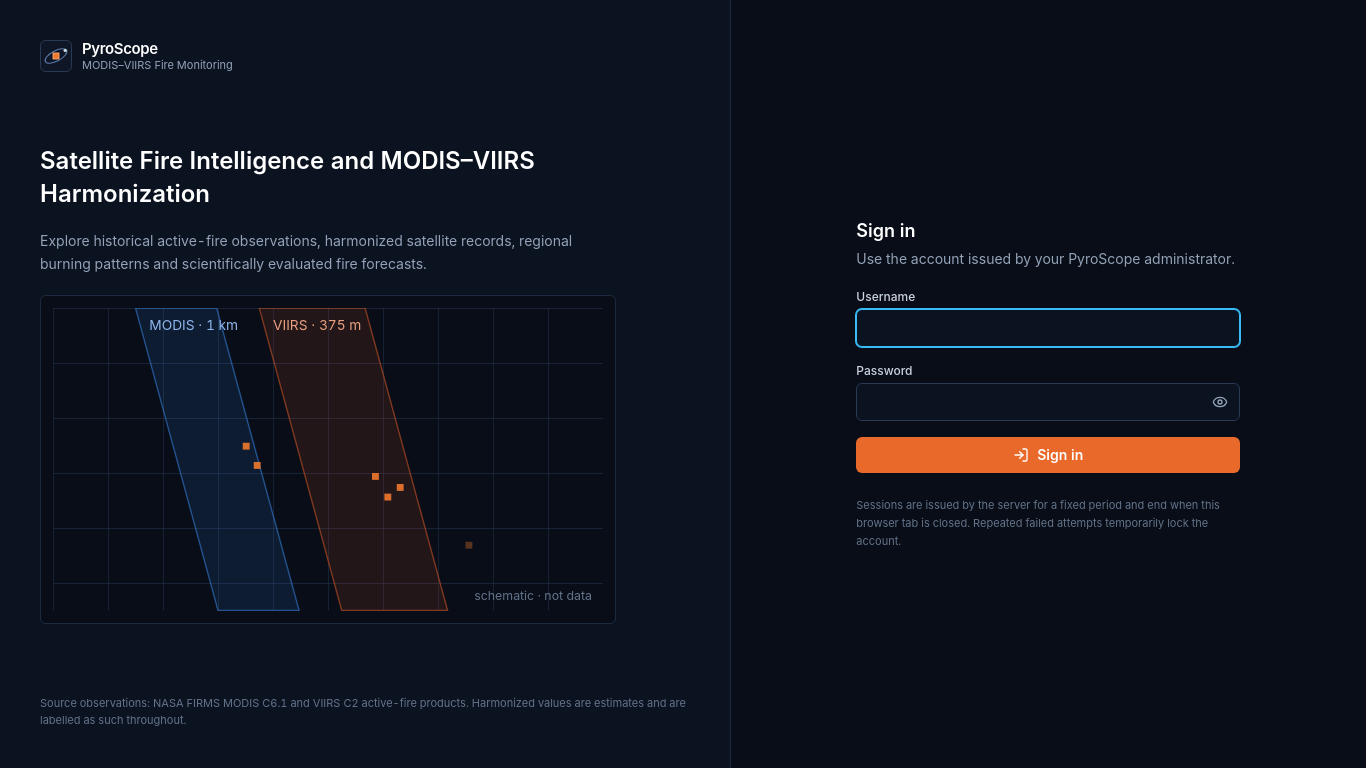
Scenario: production mode › reports network failure and blocks double submission while pending
In the field labelled "Username": {"x": 1048, "y": 328} [856,309,1240,347], type "admin"
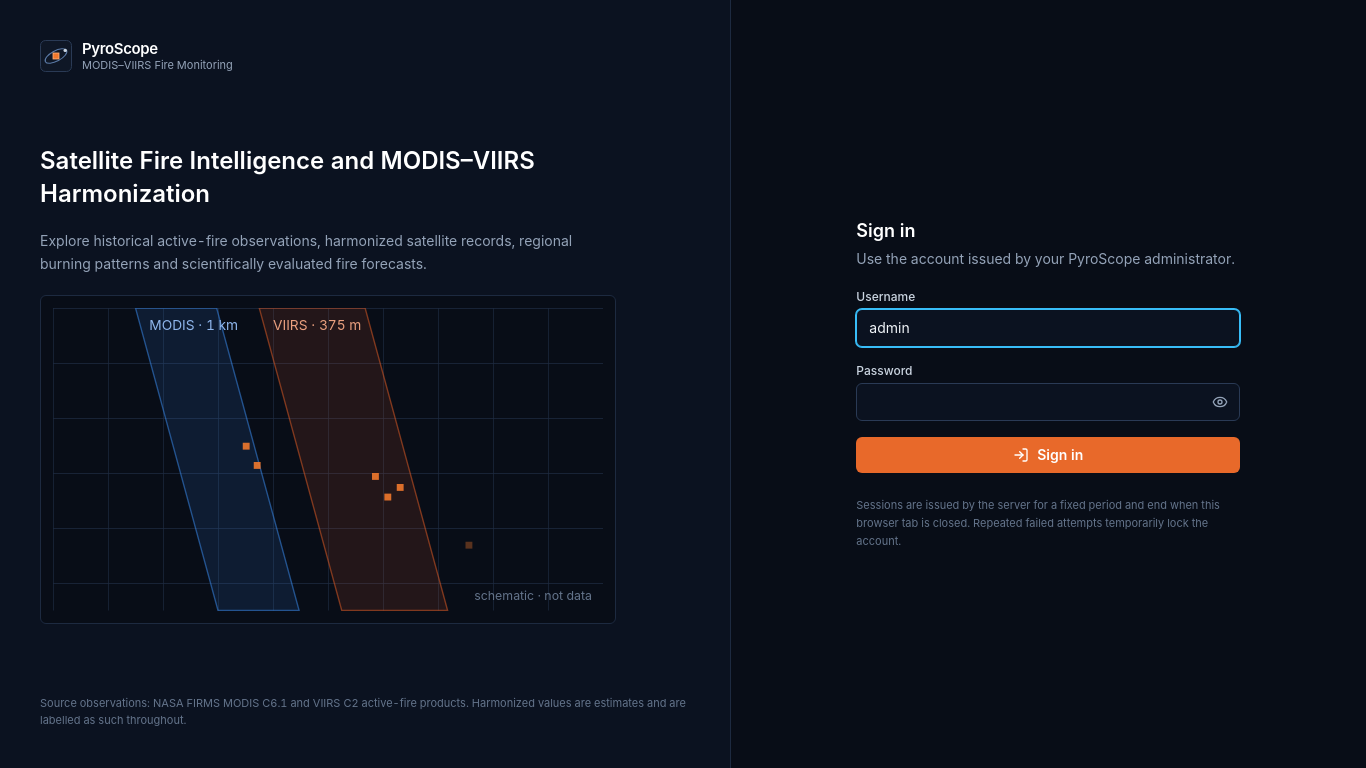
In the password field labelled "Password": {"x": 1048, "y": 402} [856,383,1240,421], type "x"
Then press Enter
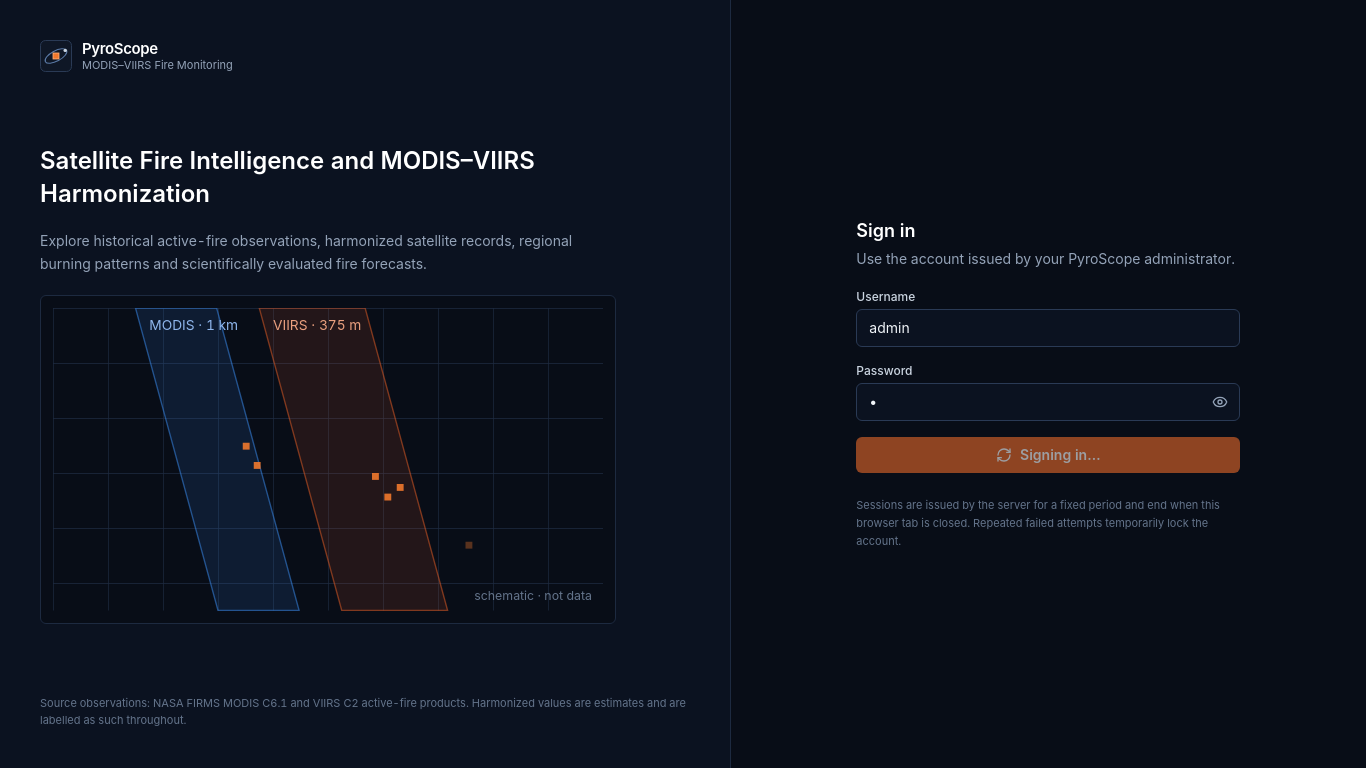
Expected: the button "Signing in…" is disabled
Click the button "Signing in…": {"x": 1048, "y": 455} [856,437,1240,473]
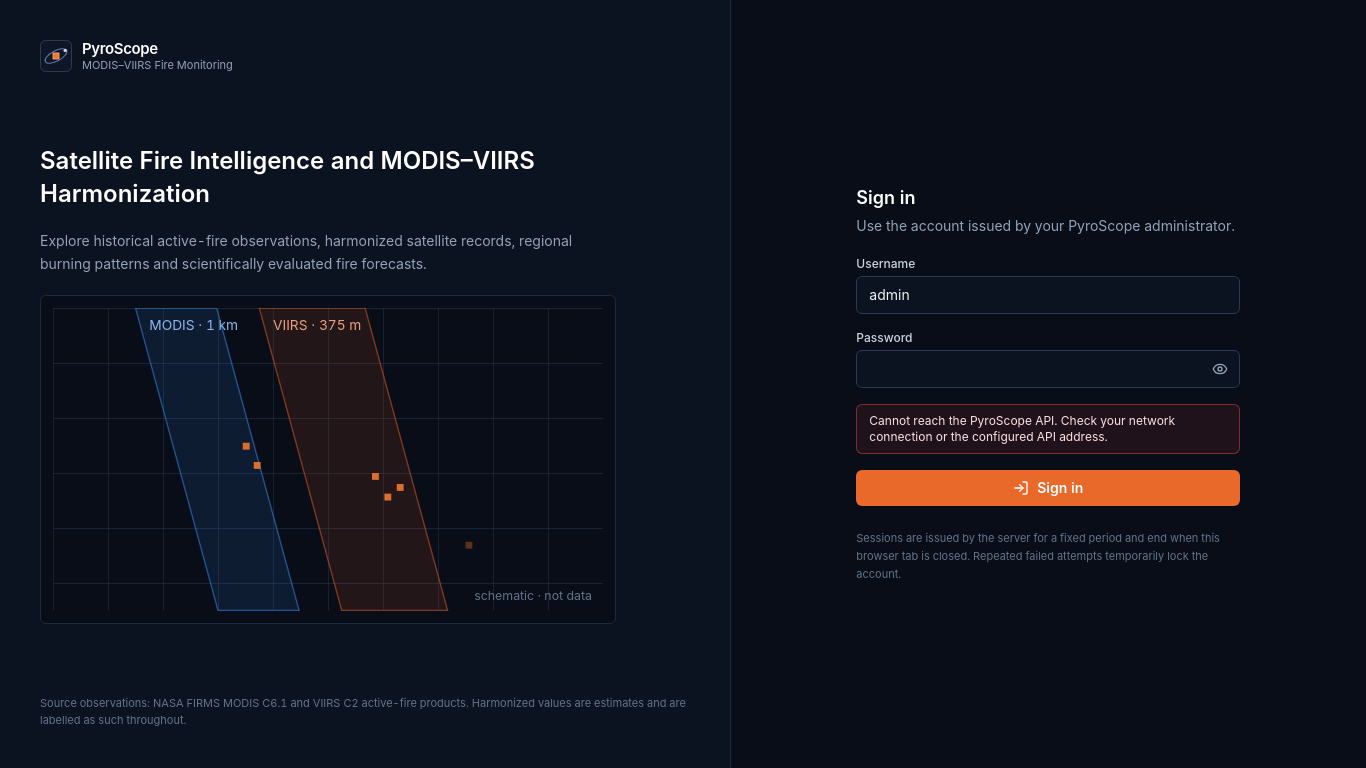
Expected: the message shows "Cannot reach the PyroScope API", [869,413,1175,444]
